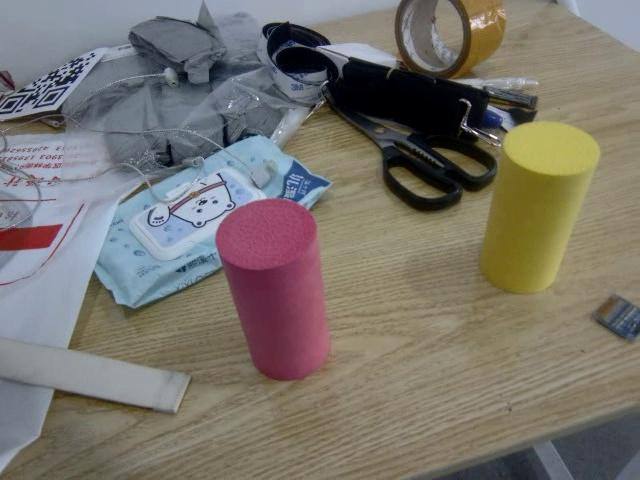red_cylinder: (217, 204, 326, 379)
yellow_cylinder: (483, 124, 596, 293)
